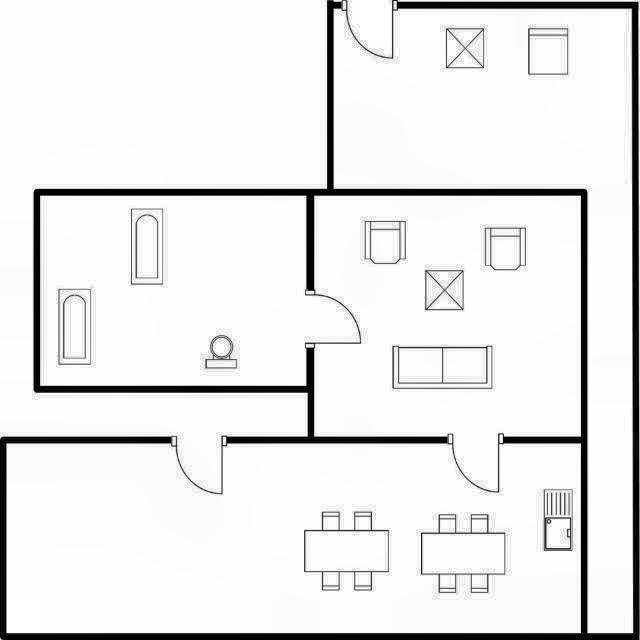room: (333, 8, 633, 634), (6, 443, 581, 633), (314, 196, 581, 437), (40, 196, 306, 386)
